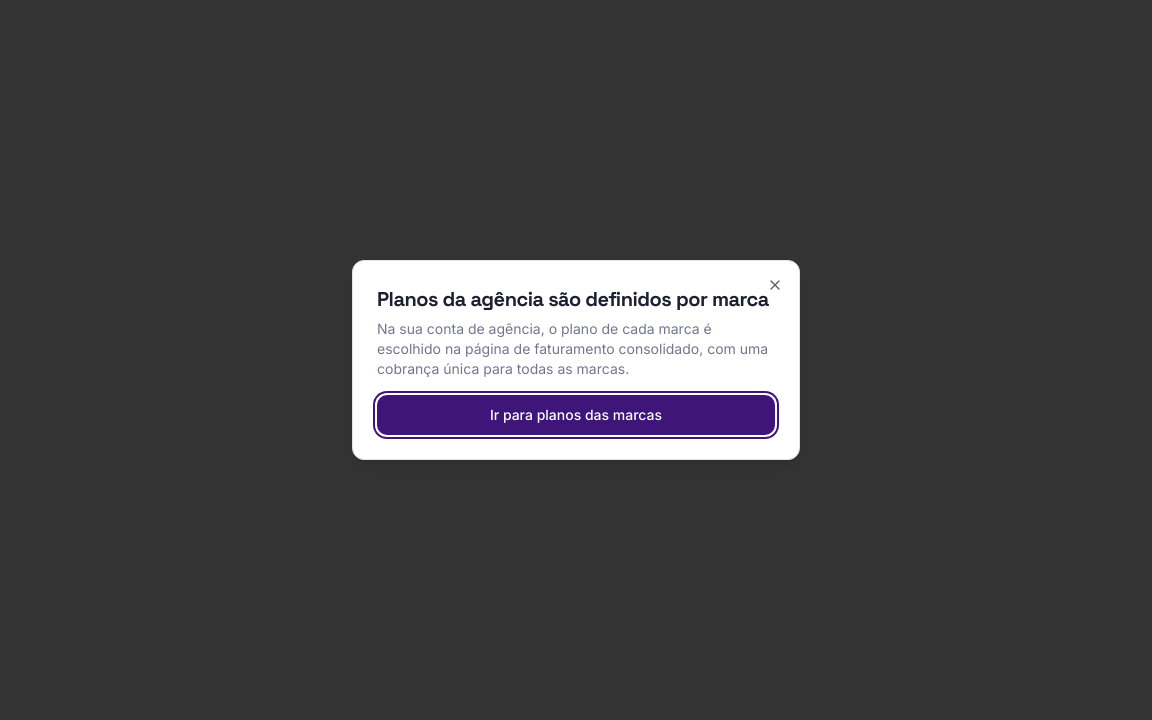
Scenario: Agência — todo ponto de entrada vai ao faturamento consolidado › defesa: UpgradeModal aberto em agência mostra aviso e nunca chama change_plan
This screenshot has width=1152, height=720.
Expected: the heading "Planos da agência são definidos por marca" is shown, [377,285,775,313]
Click the button "Ir para planos das marcas" at [576, 415], box [377,395,775,435]
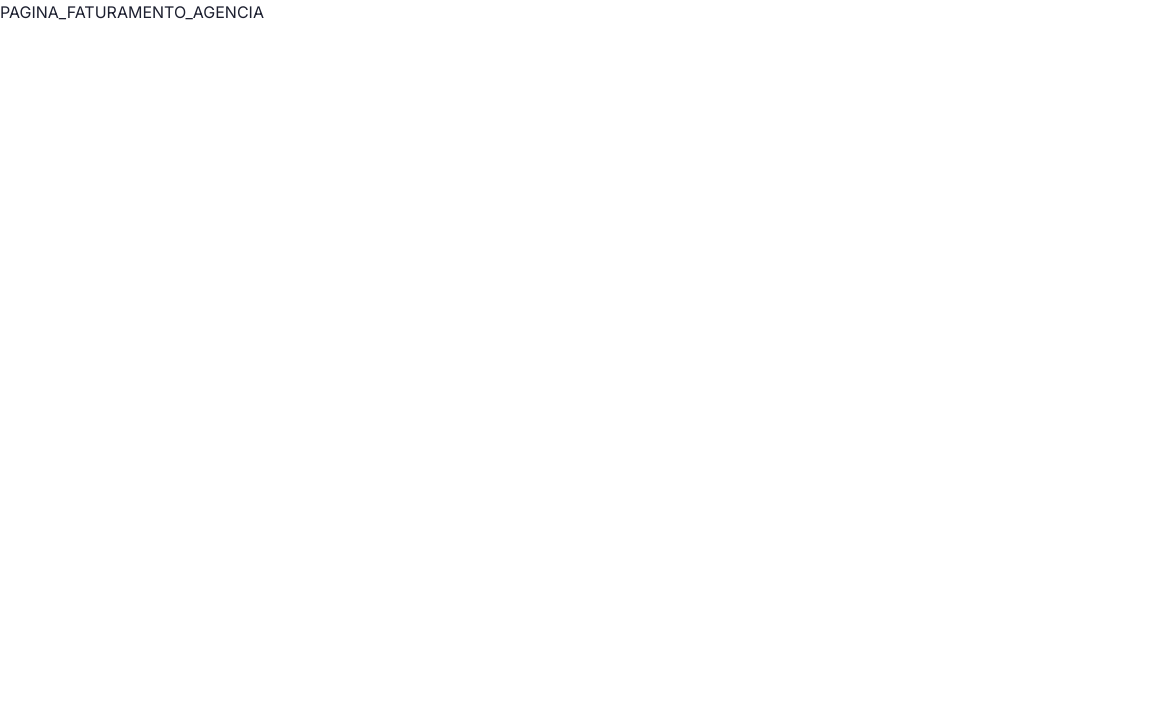
Expected: the text "PAGINA_FATURAMENTO_AGENCIA" is shown, [0,2,264,22]
